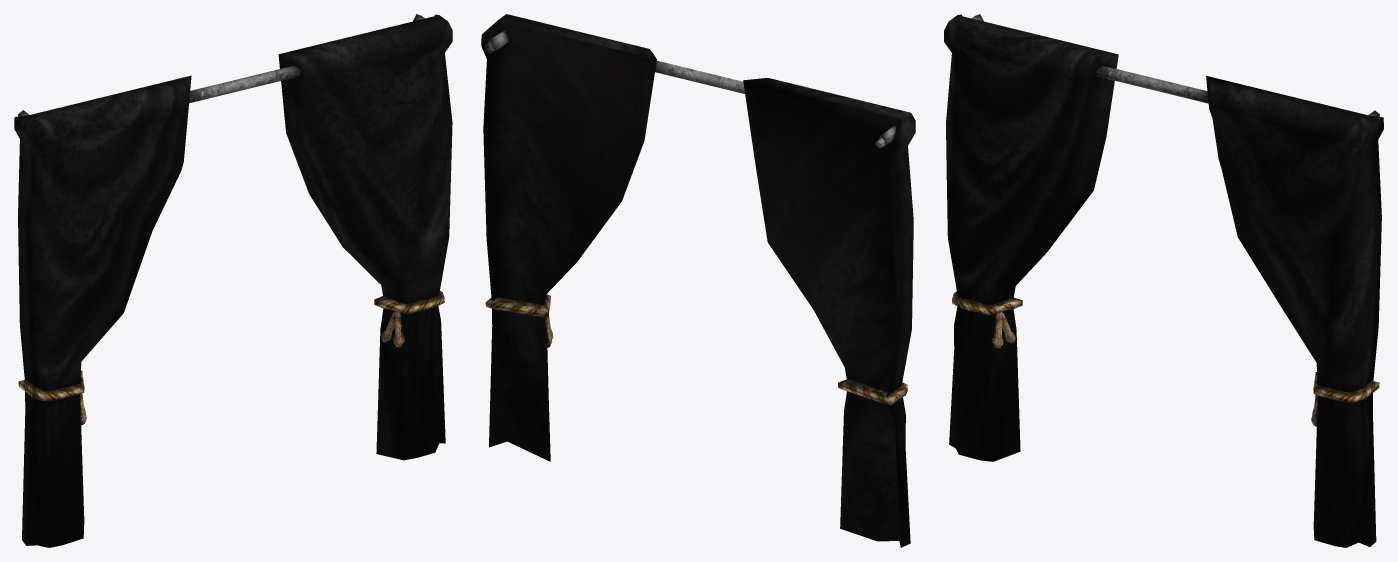
The model's file is curtain09_open.dae.
The picture shows the model from 3 angles, left to right: view 1: azimuth 30°, elevation 25°; view 2: azimuth 150°, elevation 25°; view 3: azimuth 330°, elevation 25°; orthographic projection.
Visible parts, largest first — view 1: curtain01_open; view 2: curtain01_open; view 3: curtain01_open.
Part boxes in pixels (x1,y1,x2,y2): curtain01_open: (14, 14, 452, 547); curtain01_open: (481, 14, 915, 547); curtain01_open: (944, 14, 1383, 547).
Bounding box in the file's own units: 3.75 × 3.68 × 0.4366.
